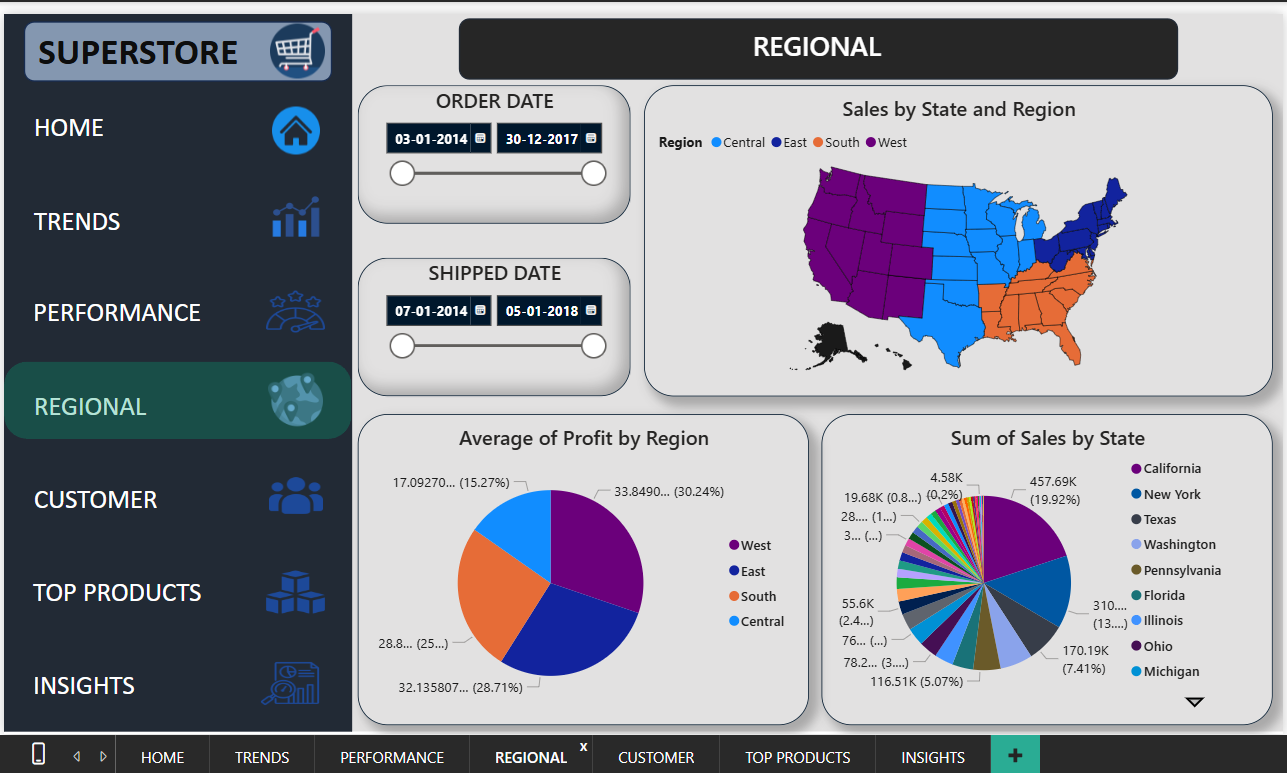

Layout of this report page (visuals, bound fields, positions):
{"tool":"powerbi","page":{"name":"REGIONAL","canvas":[1280,720],"ordinal":3},"visuals":[{"type":"shapeMap","title":"Sales by State and Region","fields":{"Value":["Sum(Sample - Superstore.Sales)"],"Category":["Sample - Superstore.State"],"Series":["Sample - Superstore.Region"]},"box":[640,71.2,628.8,311.2],"z":0},{"type":"pieChart","fields":{"Category":["Sample - Superstore.Region"],"Y":["Avg(Sample - Superstore.Profit)"]},"box":[353.8,400,451.2,311.2],"z":1},{"type":"pieChart","fields":{"Y":["Sum(Sample - Superstore.Sales)"],"Category":["Sample - Superstore.State"]},"box":[817.5,400,451.2,311.2],"z":2},{"type":"slicer","title":"ORDER DATE","fields":{"Values":["Sample - Superstore.Order Date"]},"box":[353.8,71.2,272.5,138.8],"z":3},{"type":"slicer","title":"SHIPPED DATE","fields":{"Values":["Sample - Superstore.Ship Date"]},"box":[353.8,243.8,272.5,138.8],"z":4},{"type":"textbox","box":[743.8,8.8,148.8,53.8],"z":5},{"type":"shape","box":[0,347.5,347.5,77.5],"z":6},{"type":"actionButton","box":[0,80,347.5,70],"z":7},{"type":"actionButton","box":[0,173.8,347.5,70],"z":8},{"type":"actionButton","box":[0,262.5,347.5,70],"z":9},{"type":"actionButton","box":[0,447.5,347.5,70],"z":10},{"type":"actionButton","box":[0,543.8,347.5,70],"z":11},{"type":"actionButton","box":[0,641.2,347.5,70],"z":12}]}

Visuals, with their boxes on the page's 1280x720 design canvas (x1, y1, x2, y2). These are canvas units, not pixel positions in the 1287x773 screenshot, which may show the page scaled, cropped or inside an application window:
"Sales by State and Region" shapeMap: detection(640, 71, 1269, 382)
pieChart - Sample - Superstore.Region x Avg(Sample - Superstore.Profit): detection(354, 400, 805, 711)
pieChart - Sum(Sample - Superstore.Sales) x Sample - Superstore.State: detection(818, 400, 1269, 711)
"ORDER DATE" slicer: detection(354, 71, 626, 210)
"SHIPPED DATE" slicer: detection(354, 244, 626, 383)
textbox: detection(744, 9, 893, 63)
shape: detection(0, 348, 348, 425)
actionButton: detection(0, 80, 348, 150)
actionButton: detection(0, 174, 348, 244)
actionButton: detection(0, 262, 348, 332)
actionButton: detection(0, 448, 348, 518)
actionButton: detection(0, 544, 348, 614)
actionButton: detection(0, 641, 348, 711)
